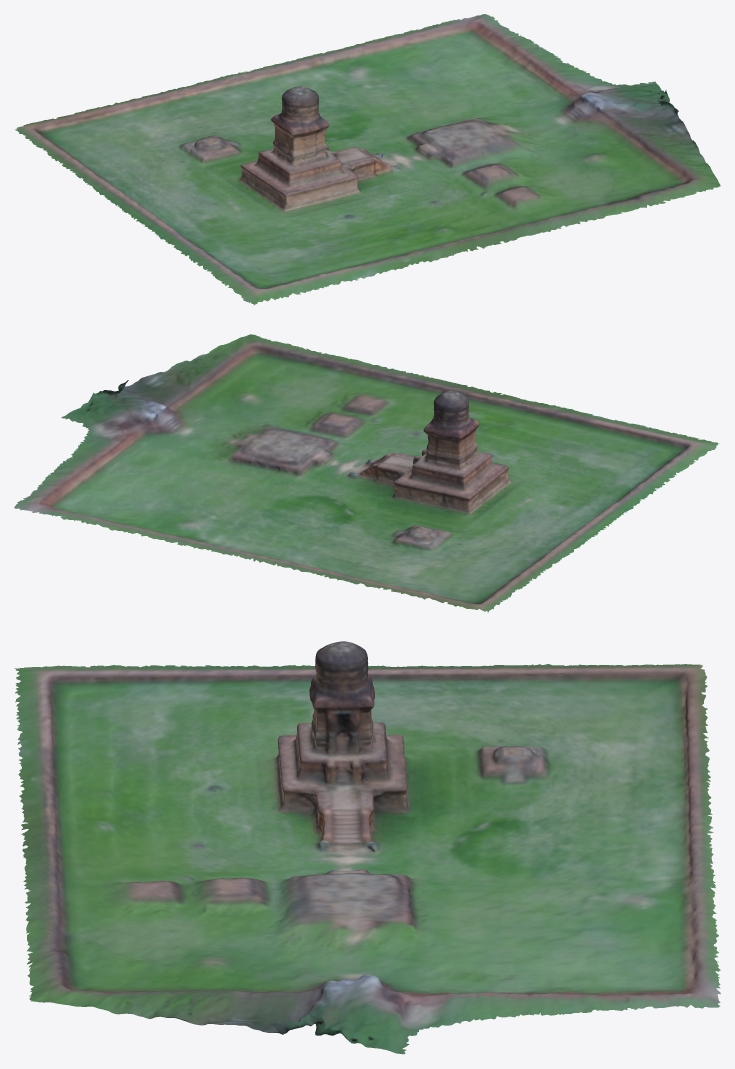
File: candi_bahal.glb
3 renders of one model, top to bottom at view 1: azimuth 30°, elevation 25°; view 2: azimuth 150°, elevation 25°; view 3: azimuth 270°, elevation 25°, orthographic. The views are drawn at different scales.
Visible parts, largest first — view 1: Geode; view 2: Geode; view 3: Geode.
Boxes of the visible parts, x1,y1,x2,y2 form: Geode: (15,14,720,305); Geode: (14,334,719,612); Geode: (14,641,720,1054).
Size of the model in its own units: 70.06 by 12.57 by 55.12.
Materials: 1 (1 with a texture image).
